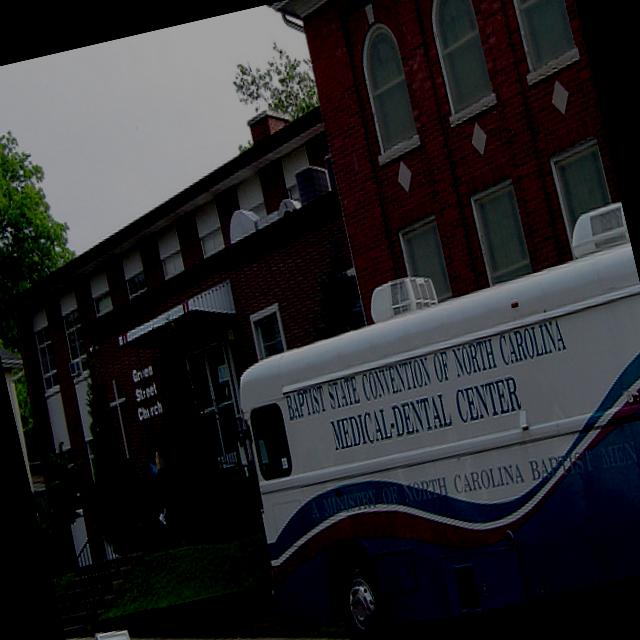Vehicle: (202, 202, 640, 640)
